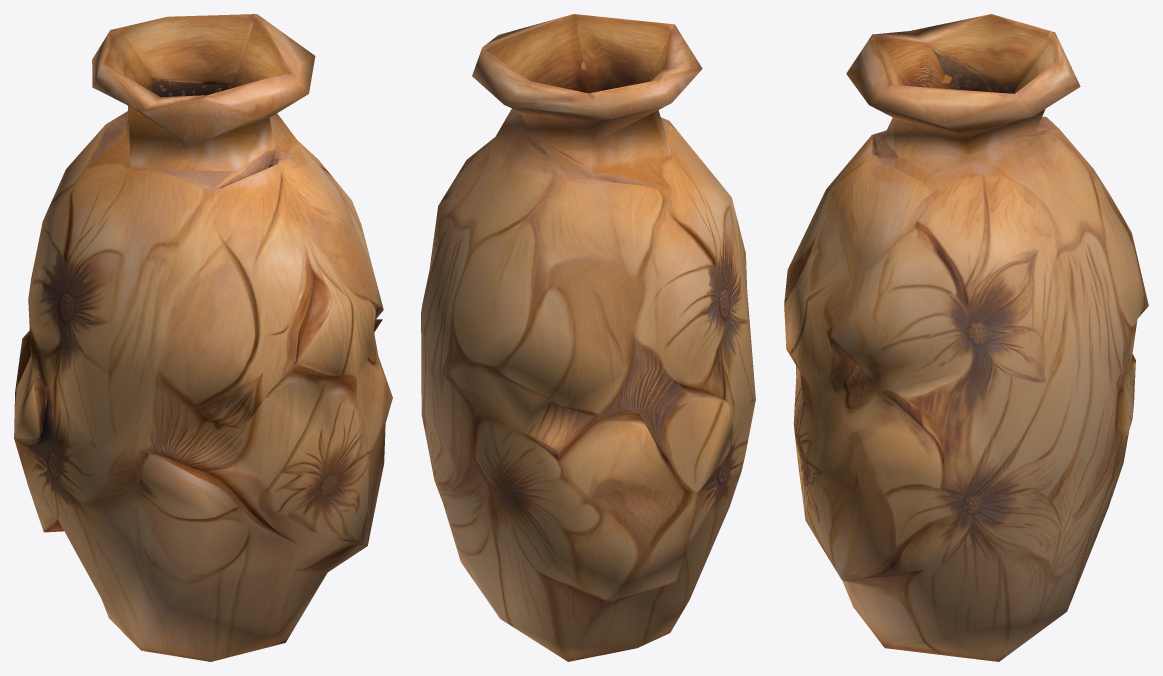
File: Vintage Vase.glb
3 views of the same model, side by side, from view 1: azimuth 30°, elevation 25°; view 2: azimuth 150°, elevation 25°; view 3: azimuth 270°, elevation 25° (orthographic).
Size of the model in its own units: 1.1 by 1.93 by 1.11.
Materials: 1 (1 with a texture image).
